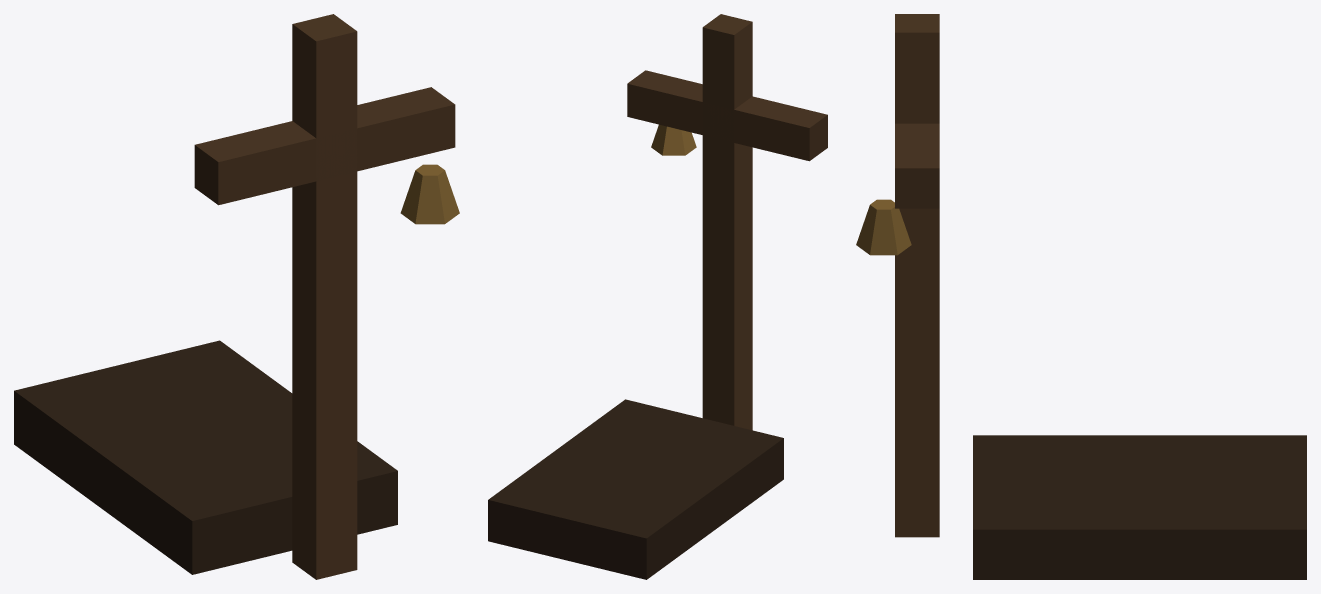
File: grave1.glb
The picture shows the model from 3 angles, left to right: view 1: azimuth 30°, elevation 25°; view 2: azimuth 150°, elevation 25°; view 3: azimuth 270°, elevation 25°; orthographic projection. The views are drawn at different scales.
Parts seen in each view (by area): view 1: Grave1; view 2: Grave1; view 3: Grave1.
Part boxes in pixels (x1=…): Grave1: x1=14, y1=14, x2=459, y2=579; Grave1: x1=488, y1=14, x2=827, y2=579; Grave1: x1=856, y1=14, x2=1306, y2=579.
Size of the model in its own units: 0.46 by 1.01 by 0.81.
